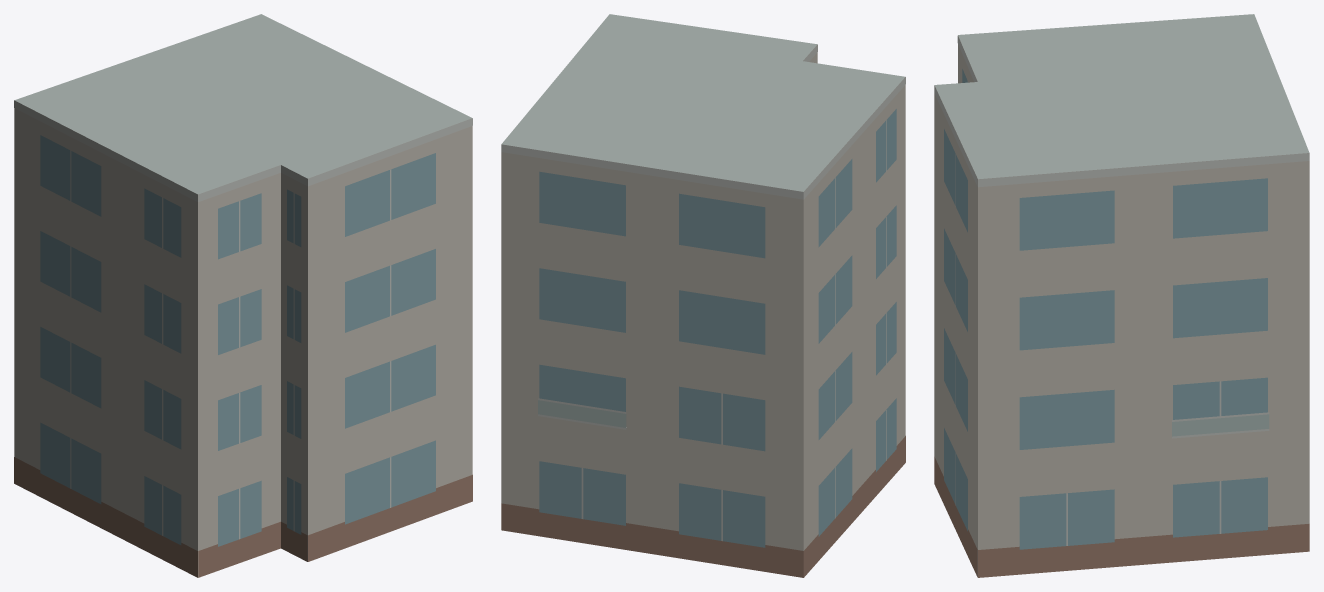
The model's file is survey-upis-32894535.glb.
3 renders of one model, left to right at view 1: azimuth 30°, elevation 25°; view 2: azimuth 150°, elevation 25°; view 3: azimuth 270°, elevation 25°, orthographic. The views are drawn at different scales.
Parts seen in each view (by area): view 1: survey-upis-32894535.tmp; view 2: survey-upis-32894535.tmp; view 3: survey-upis-32894535.tmp.
Boxes of the visible parts, box(x1,y1,x2,y2) form: survey-upis-32894535.tmp: box(14, 14, 472, 577); survey-upis-32894535.tmp: box(501, 14, 905, 577); survey-upis-32894535.tmp: box(934, 14, 1309, 577).
Size of the model in its own units: 10.76 by 12.1 by 10.33.
